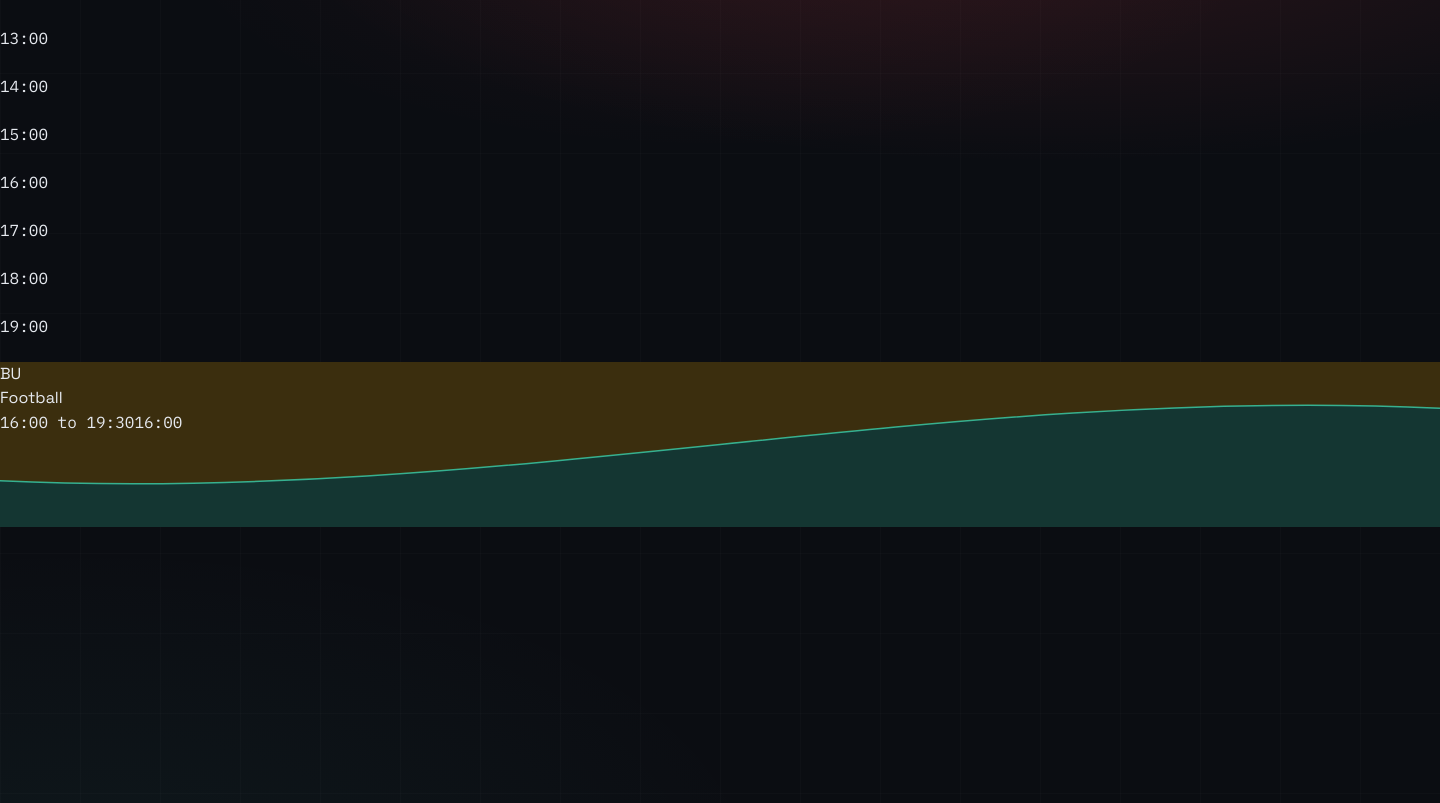
Test: Calendar overlap cards › (b) a click on the Football line opens Football's detail
(page scrolled)
Click the button "Football".
click(31, 398)  # box x1=0 y1=387 x2=63 y2=408
(page scrolled)
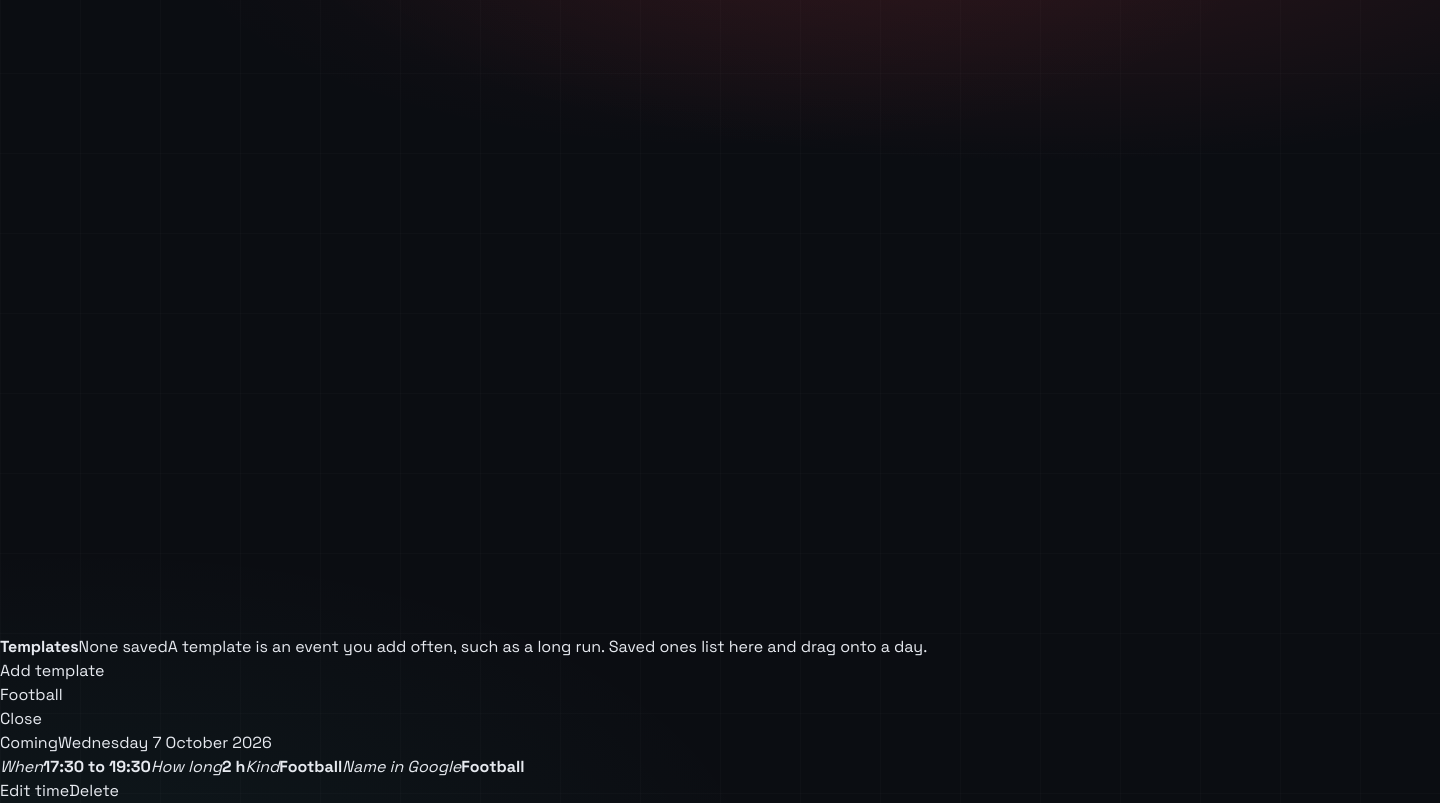
Check: the text "BU" is not shown
Check: the heading "Football" is shown, box x1=0 y1=684 x2=63 y2=705
